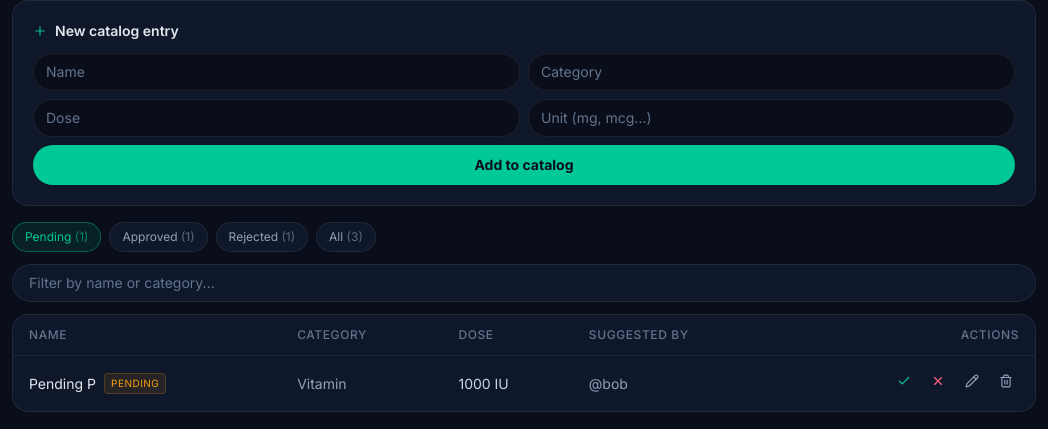
AdminCatalog moderation › switches tabs and shows approved rows
This screenshot has width=1048, height=429.
Check: the text "Pending P" is shown, box [29,374,96,392]
Click the button "Approved (1)": (158, 237) [109,222,208,252]
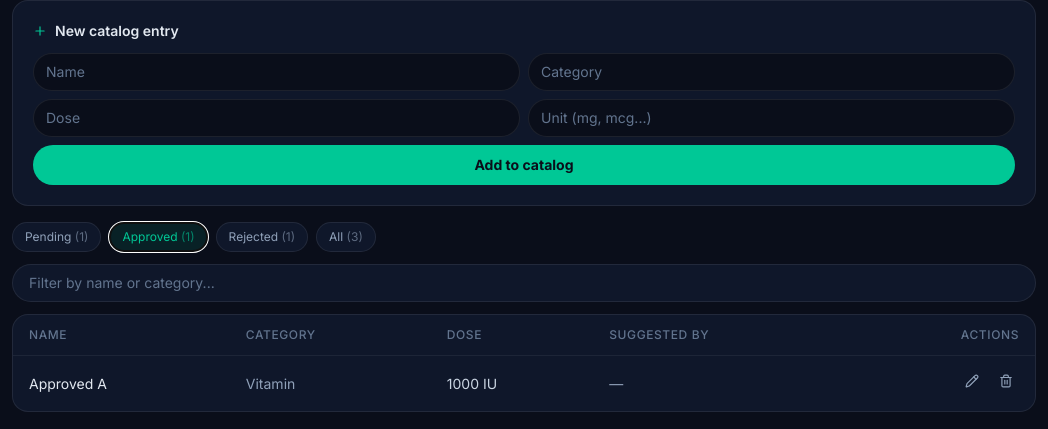
Check: the text "Approved A" is shown, box [29,374,107,392]
Check: the text "Pending P" is gone
